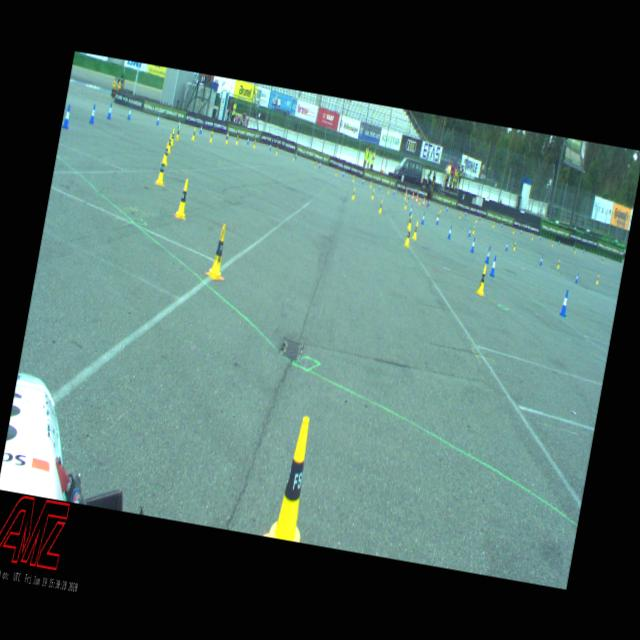blue_cone: (558, 290, 570, 316), (62, 104, 72, 128), (488, 254, 498, 277), (88, 104, 96, 124), (484, 246, 492, 264), (106, 102, 113, 120), (470, 236, 476, 252), (127, 105, 132, 120), (447, 224, 452, 239), (574, 272, 579, 282), (539, 254, 543, 266), (421, 212, 425, 224), (467, 226, 471, 237), (156, 114, 160, 125), (199, 123, 203, 134), (408, 204, 412, 215), (225, 128, 229, 139), (504, 240, 508, 250), (436, 214, 440, 224), (268, 141, 272, 150), (177, 118, 180, 129), (246, 135, 249, 144)
large_orange_cone: (422, 194, 426, 207), (404, 187, 408, 200), (414, 192, 418, 204), (411, 188, 415, 200)
yellow_cone: (264, 412, 321, 542), (206, 222, 232, 280), (174, 178, 192, 220), (154, 154, 168, 186), (476, 264, 488, 295), (162, 142, 170, 166), (404, 224, 412, 247), (411, 220, 418, 240), (166, 133, 173, 153), (170, 128, 176, 146), (190, 126, 197, 140), (406, 212, 412, 228), (174, 126, 180, 140), (378, 199, 383, 212), (209, 130, 214, 142), (403, 198, 408, 210), (351, 188, 355, 200), (235, 134, 239, 146), (370, 187, 374, 199), (225, 132, 229, 144), (595, 274, 599, 284), (512, 240, 516, 250), (556, 259, 560, 268), (252, 139, 256, 148), (458, 211, 462, 219), (292, 152, 296, 160), (276, 145, 278, 155), (472, 224, 474, 233), (574, 246, 576, 254), (512, 226, 514, 234), (418, 197, 420, 205), (475, 215, 477, 222), (352, 174, 354, 181)
